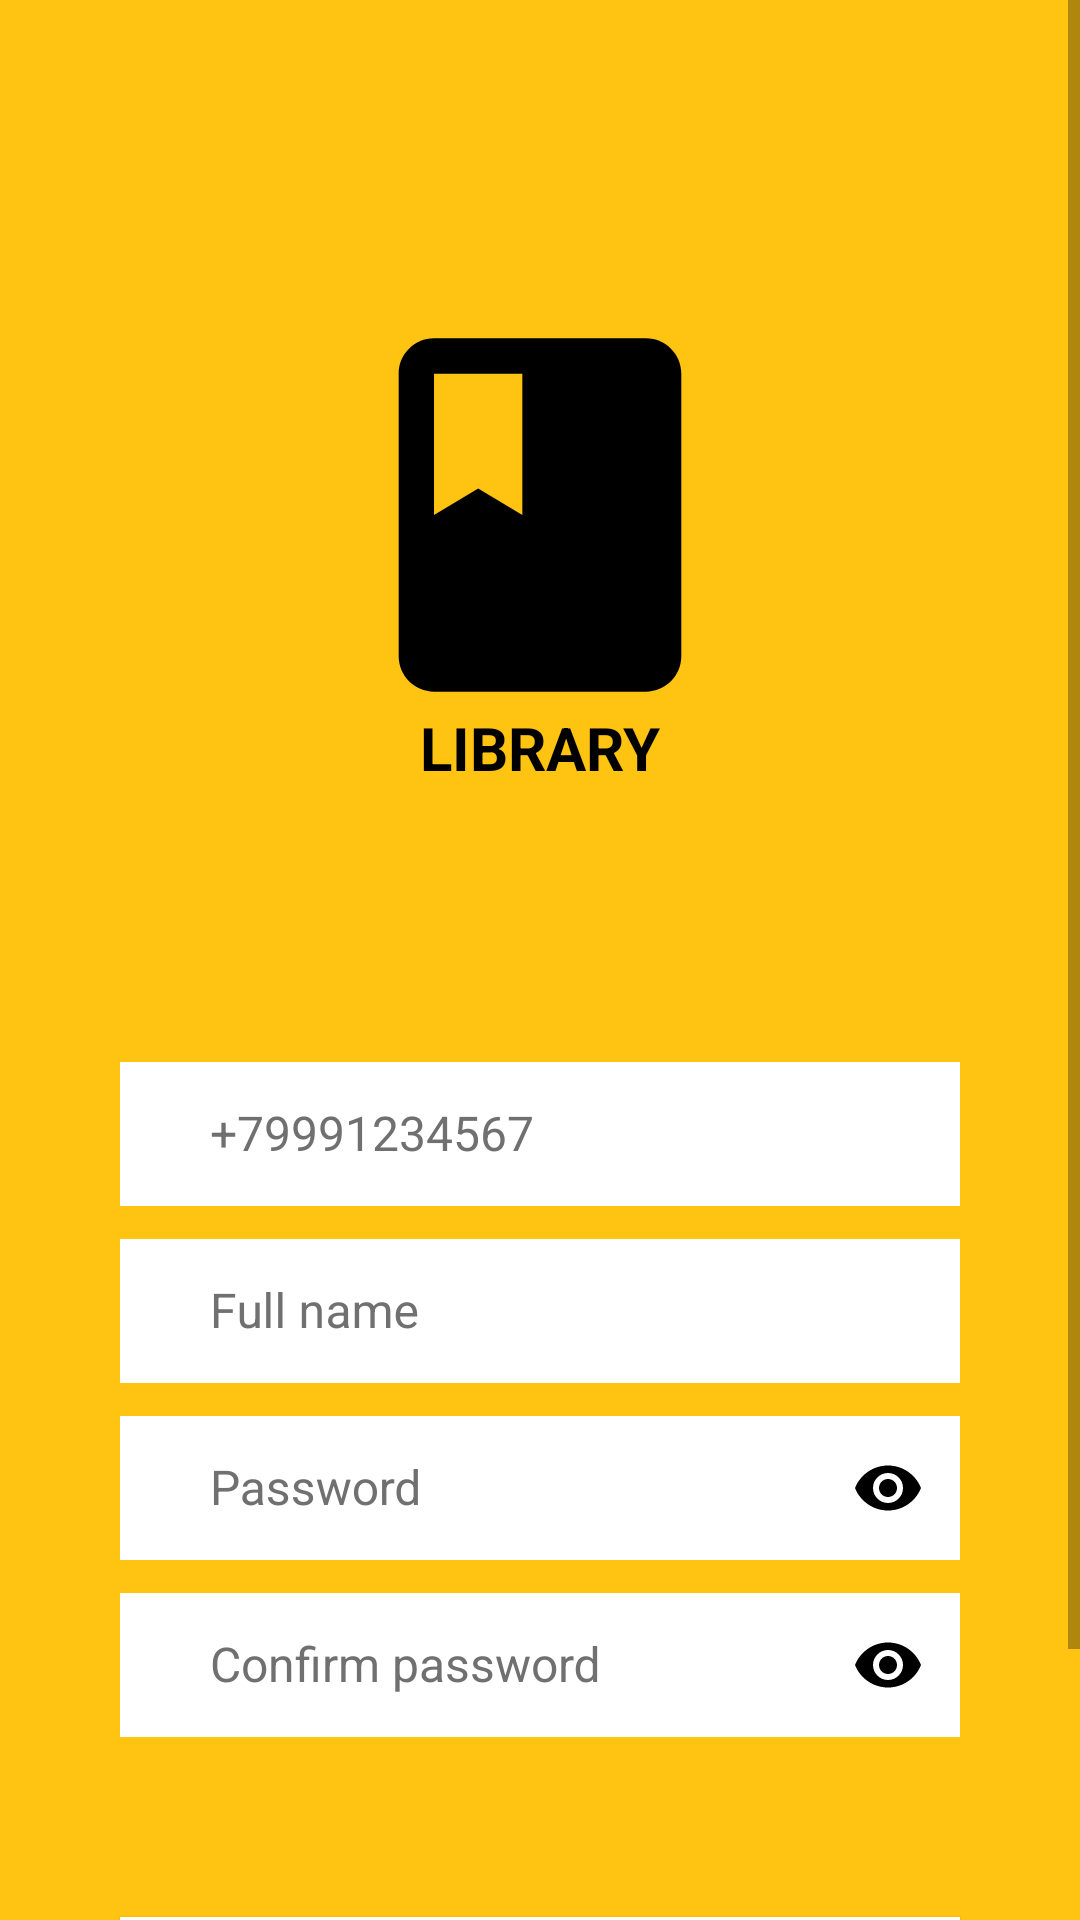

Locate icon controls on the screen. Image size 1080×1920, boxes as Rect(x1, y1, x2, y2).
book: Rect(398, 338, 682, 692)
